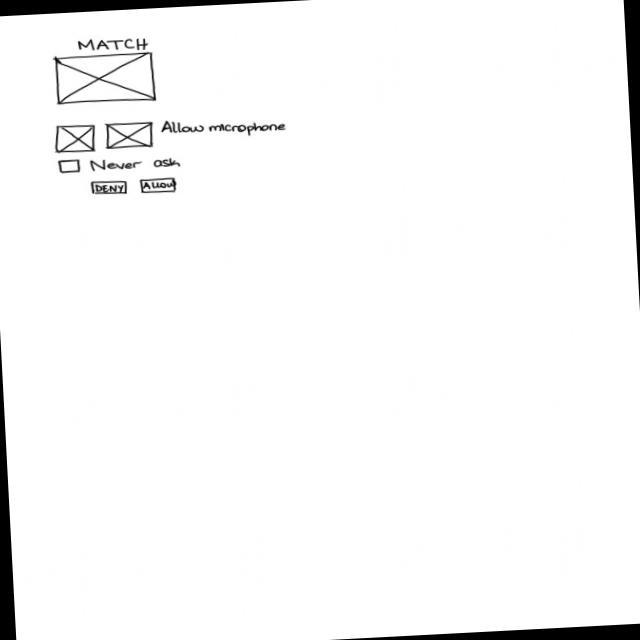button: (139, 178, 180, 197), (90, 180, 130, 198)
checkbox: (57, 153, 184, 177)
image: (55, 54, 159, 109), (104, 121, 155, 152), (56, 123, 99, 155)
label: (164, 115, 289, 141), (75, 34, 151, 56)
